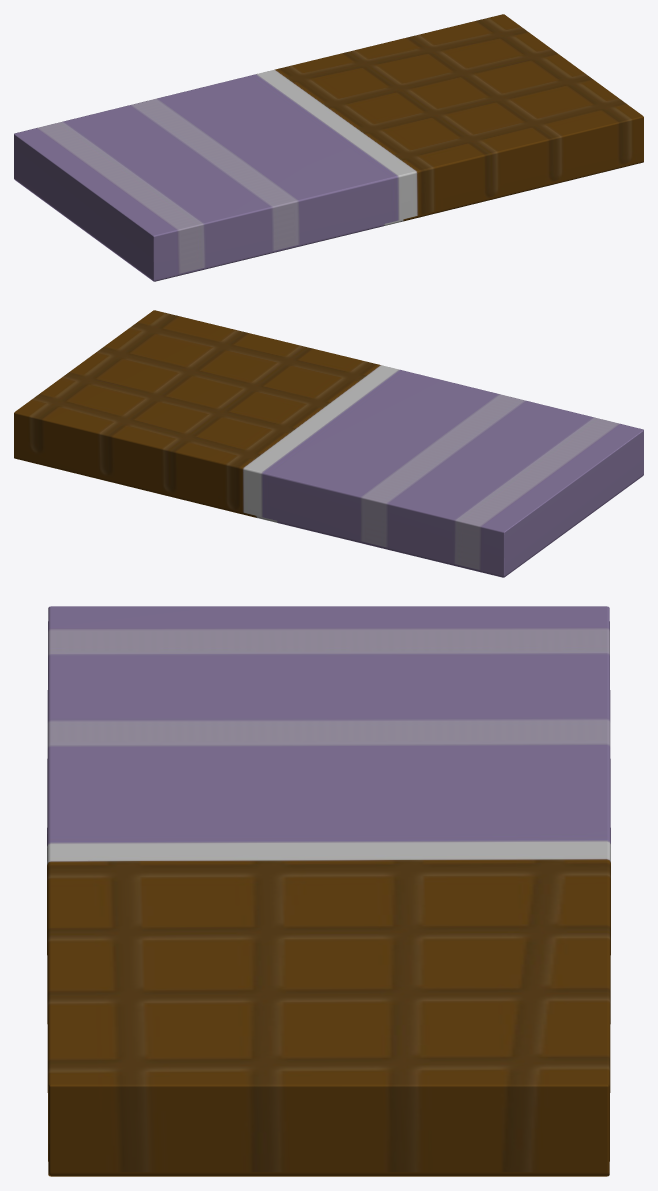
Rendered from Food_Choclate.fbx.
3 views of the same model, one above another, from view 1: azimuth 30°, elevation 25°; view 2: azimuth 150°, elevation 25°; view 3: azimuth 270°, elevation 25° (orthographic). The views are drawn at different scales.
Visible parts, largest first — view 1: Levels:Food_Choclate; view 2: Levels:Food_Choclate; view 3: Levels:Food_Choclate.
Boxes of the visible parts, bbox=[...] form: Levels:Food_Choclate: bbox=[14, 14, 643, 281]; Levels:Food_Choclate: bbox=[14, 310, 643, 577]; Levels:Food_Choclate: bbox=[47, 606, 610, 1176].
Size of the model in its own units: 20.68 by 1.9 by 10.29.
